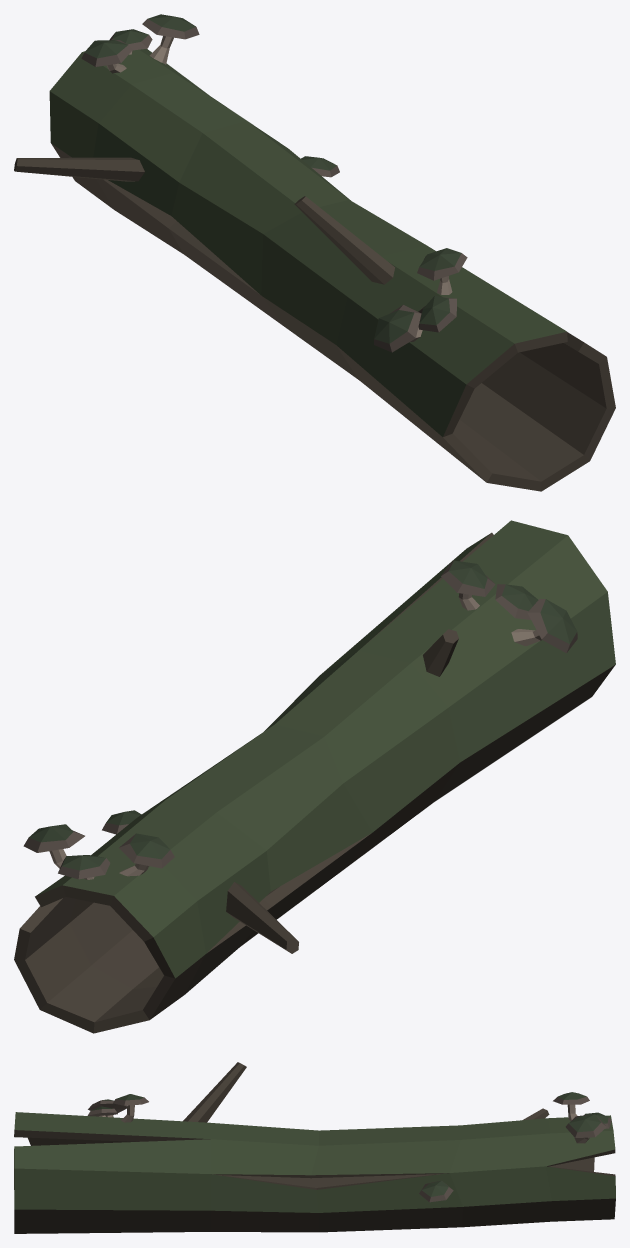
Rendered from mo_log.glb.
3 views of the same model, one above another, from view 1: azimuth 30°, elevation 25°; view 2: azimuth 150°, elevation 25°; view 3: azimuth 270°, elevation 25° (orthographic). The views are drawn at different scales.
Parts seen in each view (by area): view 1: WoodLog_Moss; view 2: WoodLog_Moss; view 3: WoodLog_Moss.
Boxes of the visible parts, box(x1,y1,x2,y2) form: WoodLog_Moss: box(14, 14, 615, 491); WoodLog_Moss: box(14, 520, 615, 1033); WoodLog_Moss: box(14, 1062, 615, 1233).
Size of the model in its own units: 0.8966 by 0.6883 by 2.67.
